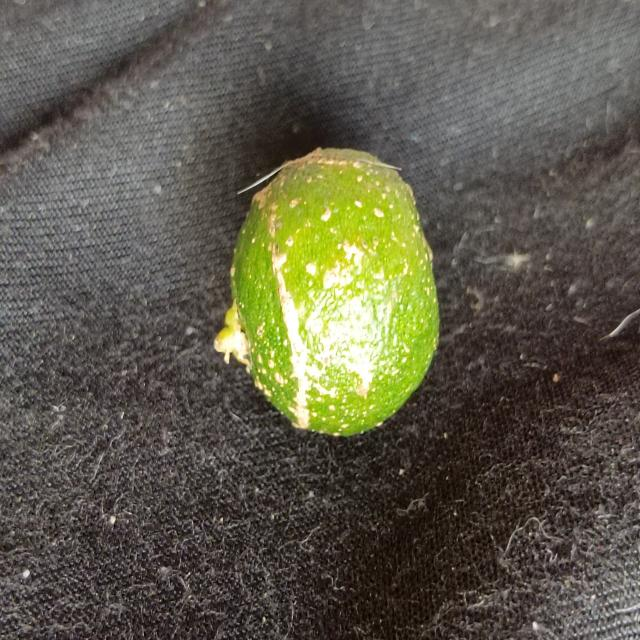scab: (230, 139, 441, 441)
